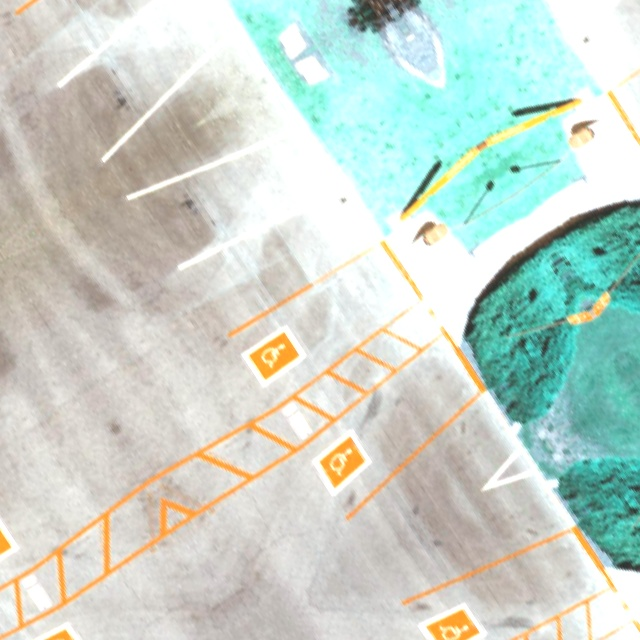ISA: (312, 433, 374, 493), (244, 327, 305, 383), (421, 599, 483, 640), (26, 622, 88, 640), (0, 518, 15, 575), (589, 300, 606, 317), (578, 308, 595, 324)
